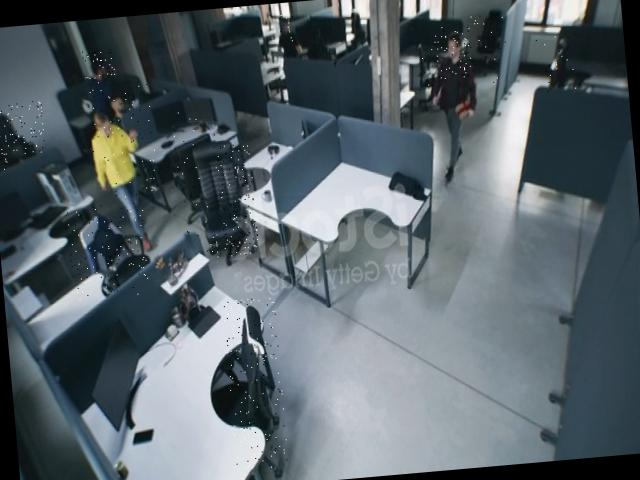empty chair: (221, 296, 288, 470), (66, 202, 150, 304), (198, 140, 258, 258), (170, 108, 222, 237), (468, 0, 513, 89), (535, 34, 578, 95), (412, 47, 438, 105)
occupiedchair: (102, 80, 160, 198), (0, 100, 45, 156)
